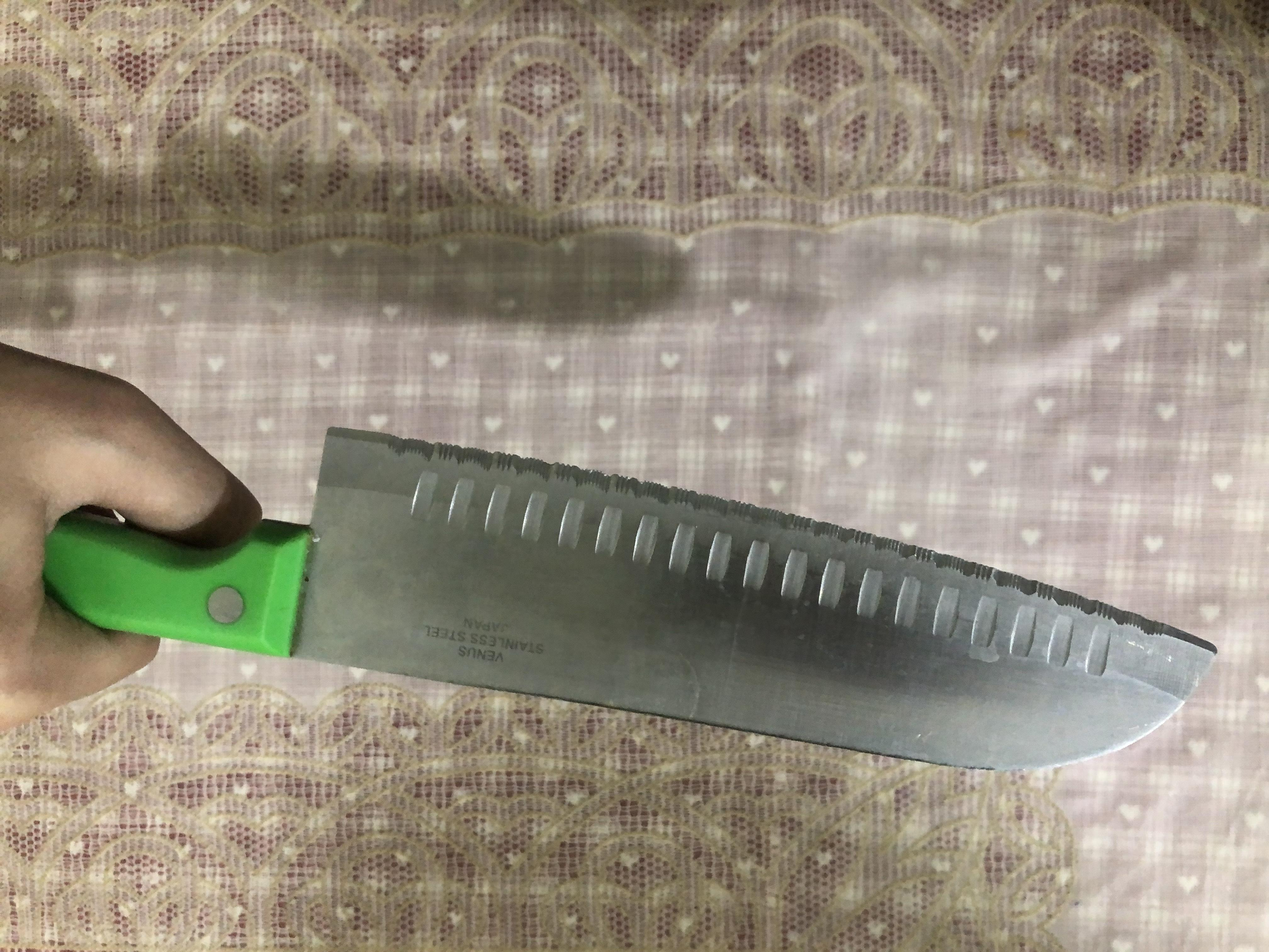knife: (243, 37, 699, 918)
